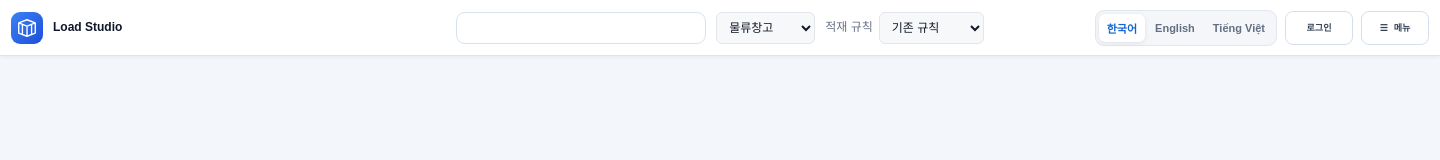
Test: keeps custom equipment intact when switching rules from the header
Step 1. Select "A 규칙" in the dropdown with id "loading-rules-choice" → (931,28), box [879,12,984,44]
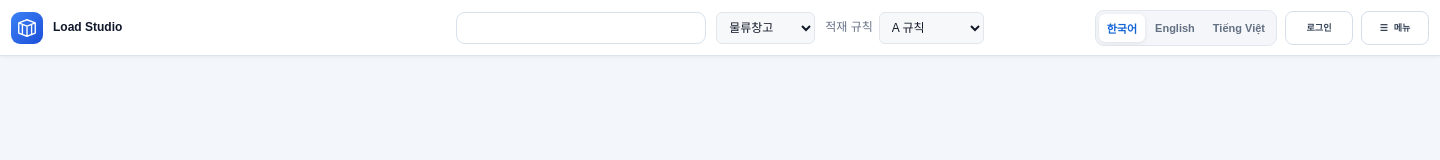
Step 2. Select "기존 규칙" in the dropdown with id "loading-rules-choice" → (931,28), box [879,12,984,44]
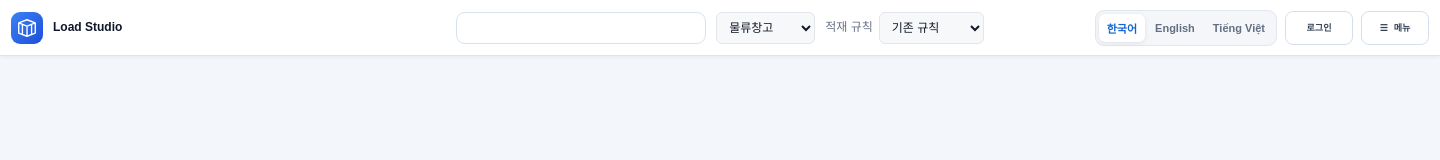
Step 3. Select "A 규칙" in the dropdown with id "loading-rules-choice" → (931,28), box [879,12,984,44]
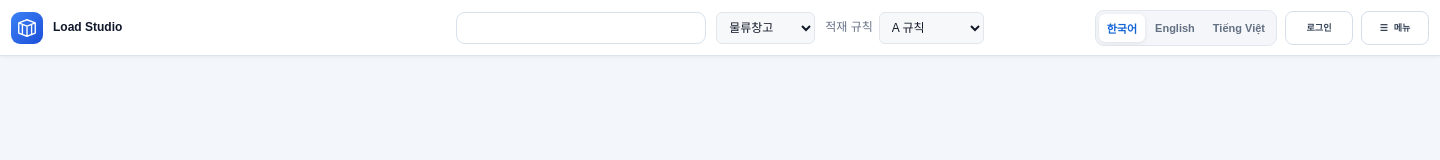
Expected: the dropdown with id "loading-rules-choice" shows "A 규칙", [879,12,984,44]
